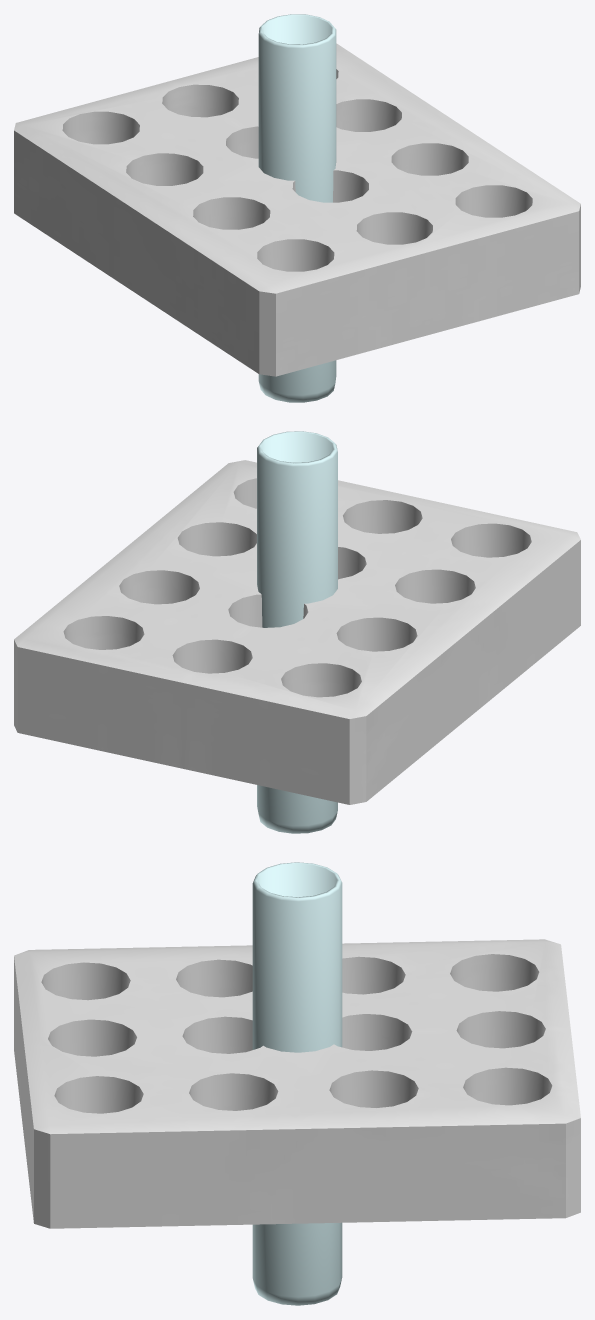
File: testTubeandHolder00.fbx
3 renders of one model, top to bottom at view 1: azimuth 30°, elevation 25°; view 2: azimuth 150°, elevation 25°; view 3: azimuth 270°, elevation 25°, orthographic. The views are drawn at different scales.
Visible parts, largest first — view 1: testTube_Holder.001, testTube.004; view 2: testTube_Holder.001, testTube.004; view 3: testTube_Holder.001, testTube.004.
Boxes of the visible parts, left/top/right/bottom form: testTube_Holder.001: left=14, top=43, right=580, bottom=376; testTube.004: left=258, top=14, right=336, bottom=402; testTube_Holder.001: left=14, top=460, right=580, bottom=804; testTube.004: left=257, top=431, right=337, bottom=833; testTube_Holder.001: left=14, top=939, right=580, bottom=1228; testTube.004: left=252, top=862, right=342, bottom=1305.
Size of the model in its own units: 0.3504 by 0.3416 by 0.431.
Materials: 1 (1 with a texture image).
